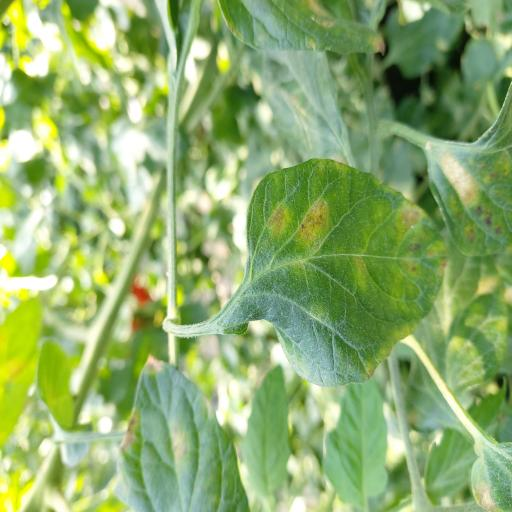disease_tomato: (244, 157, 448, 387), (109, 352, 249, 512)
